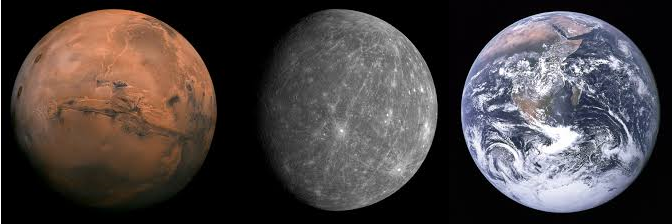Earth: (458, 6, 668, 214)
Mars: (7, 6, 221, 215)
Mercury: (251, 7, 442, 213)
